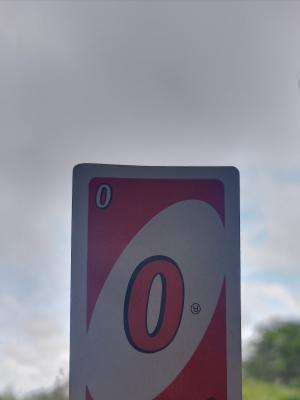num_0: (90, 178, 118, 216)
red: (67, 165, 241, 399)
